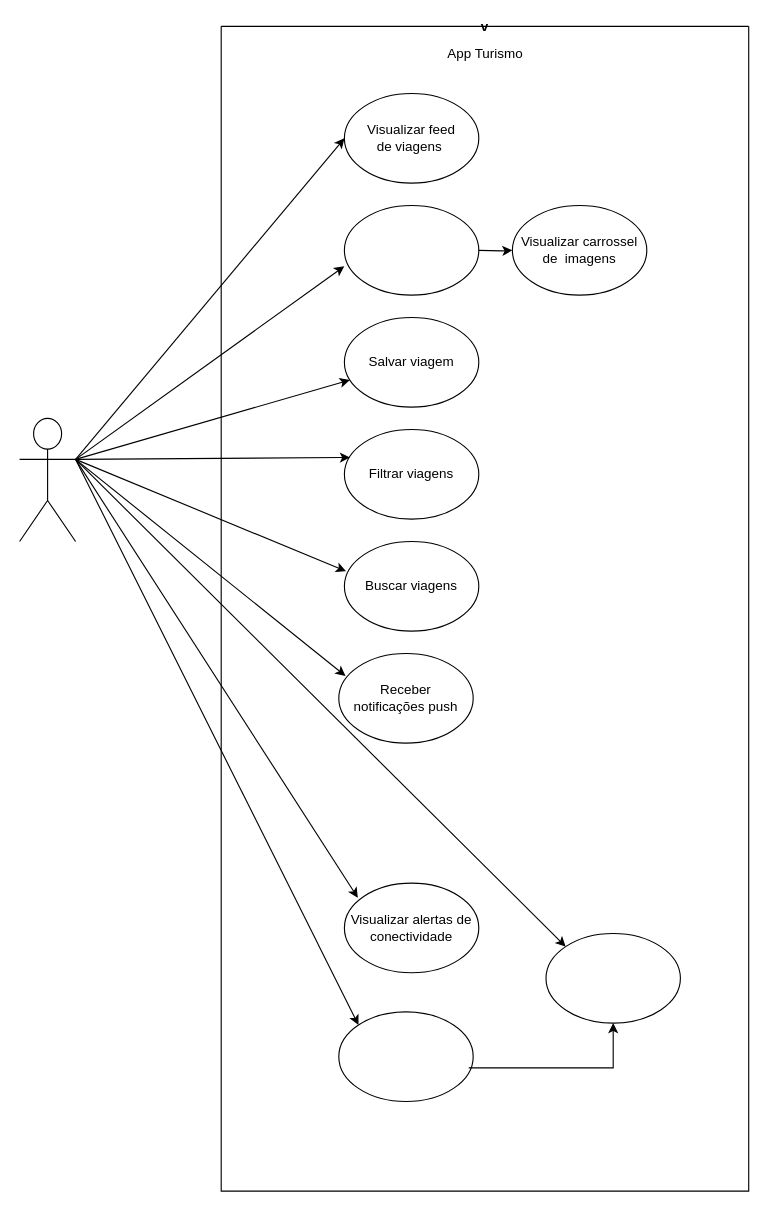
Image size: 768x1211. Some labels were removed from this diagram. Each missing label, with the centre of its shape:
"Cliente" belongs at [47,479].
"Utilizar modo offline" belongs at [405,1056].
"Visualizar detalhes da viagem" belongs at [411,249].
"Visualizar viagens salvas" belongs at [612,977].
